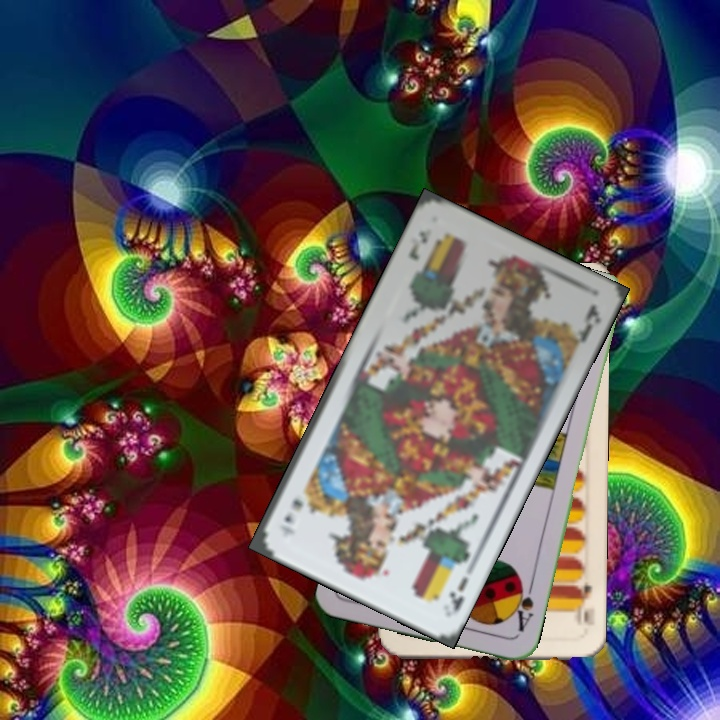E10: (571, 580, 594, 627)
EK: (445, 572, 471, 619), (405, 225, 434, 263)
SA: (508, 576, 537, 634)
